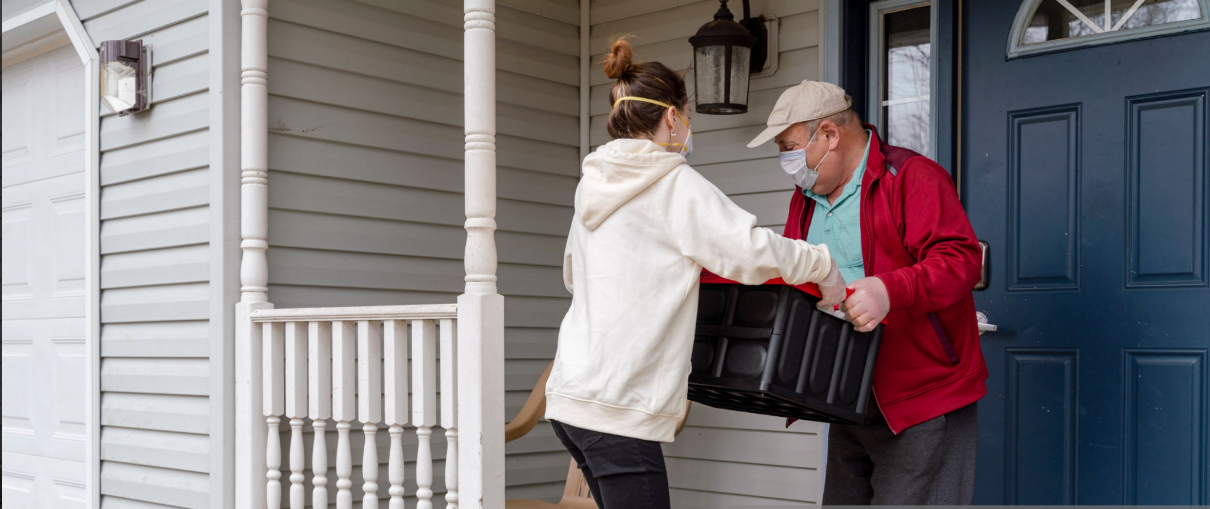with_mask: (597, 57, 711, 170), (775, 124, 865, 190)
